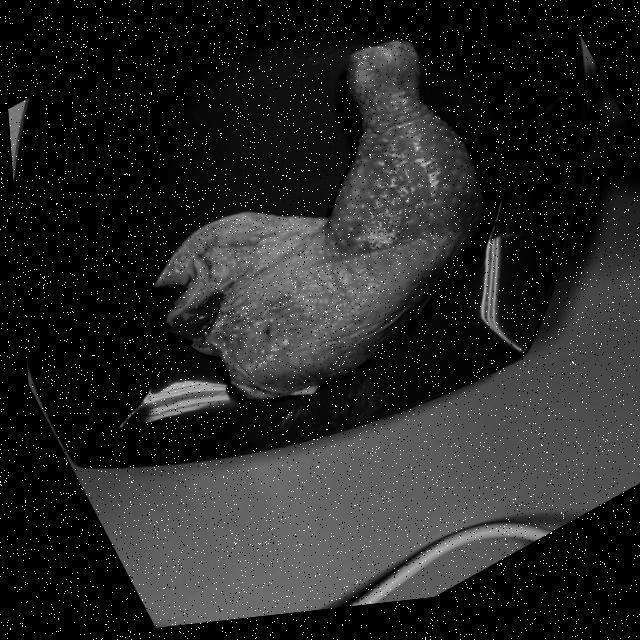quater: (175, 34, 472, 380)
